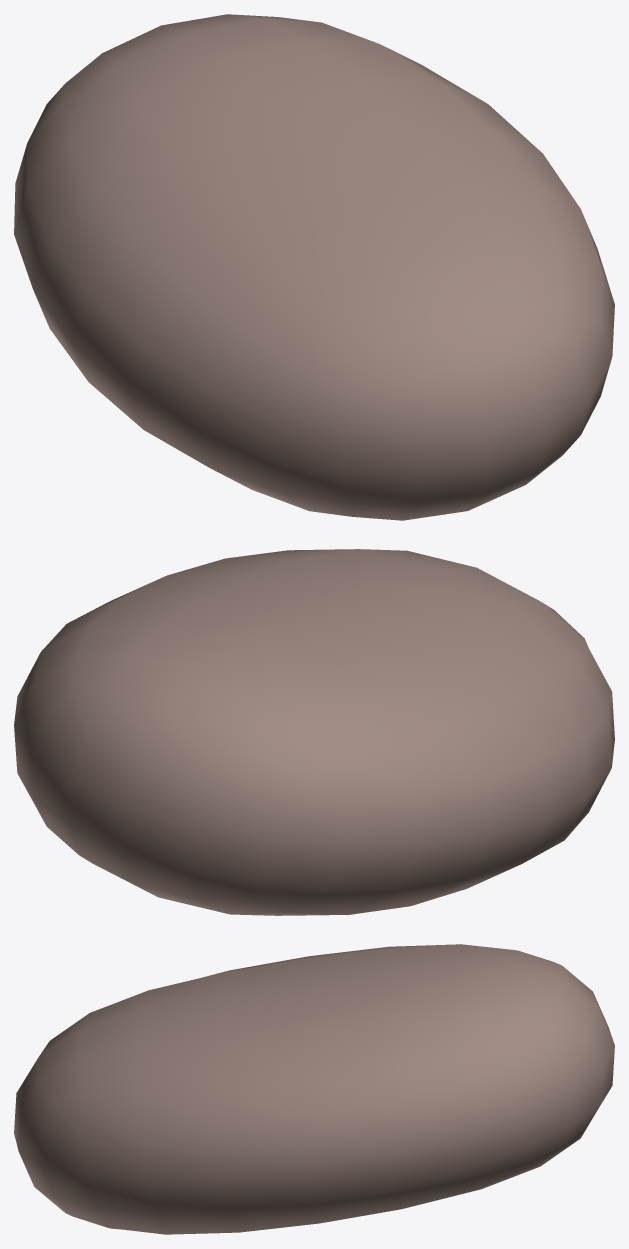
The model's file is Piedra1D.fbx.
3 renders of one model, top to bottom at view 1: azimuth 30°, elevation 25°; view 2: azimuth 150°, elevation 25°; view 3: azimuth 270°, elevation 25°, orthographic. The views are drawn at different scales.
Parts seen in each view (by area): view 1: Circle.003; view 2: Circle.003; view 3: Circle.003.
Part boxes in pixels (bbox=[...]): Circle.003: bbox=[14, 14, 614, 520]; Circle.003: bbox=[14, 549, 614, 915]; Circle.003: bbox=[14, 944, 614, 1234].
Size of the model in its own units: 141 by 83.94 by 188.
